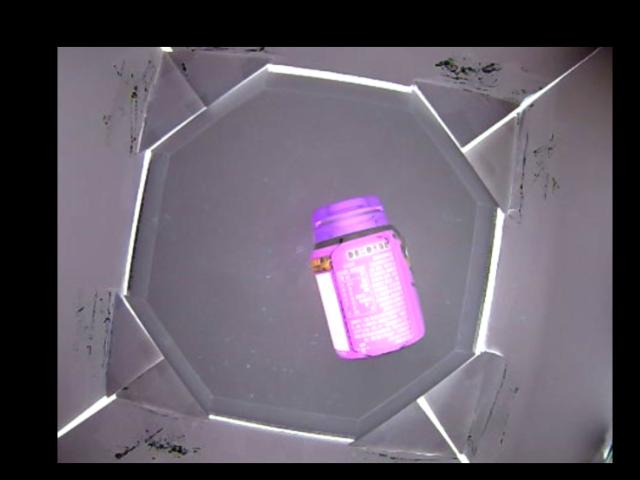Bottle: (310, 198, 426, 359)
